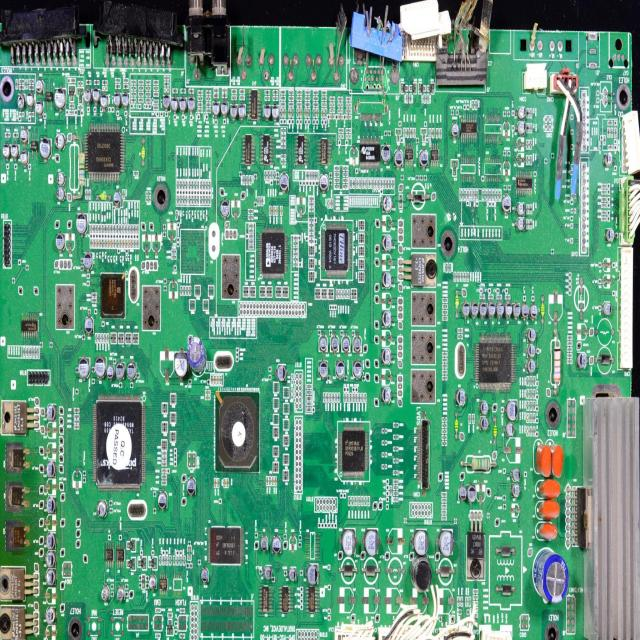Capacitor: (364, 525, 384, 555), (337, 530, 360, 556), (172, 351, 193, 378), (48, 230, 72, 253), (438, 530, 457, 556), (382, 187, 397, 218), (314, 360, 333, 384), (81, 246, 97, 272), (44, 601, 60, 626), (92, 498, 110, 520), (75, 211, 91, 235), (452, 386, 470, 407), (279, 171, 293, 198), (43, 398, 60, 420), (76, 354, 91, 378), (478, 411, 495, 431), (351, 359, 364, 385), (128, 352, 140, 380), (96, 354, 108, 382), (182, 477, 198, 497), (286, 565, 300, 587), (575, 350, 591, 369), (82, 316, 97, 336), (414, 528, 427, 551), (197, 561, 210, 584), (52, 180, 66, 201), (44, 527, 61, 544), (54, 86, 66, 110), (219, 196, 234, 215), (316, 336, 330, 356), (270, 536, 284, 556), (44, 550, 64, 564), (352, 333, 364, 356), (380, 271, 394, 290), (43, 496, 59, 512), (53, 166, 69, 182), (481, 397, 492, 420), (337, 355, 348, 377), (502, 194, 513, 216), (45, 459, 60, 475), (307, 563, 319, 583), (417, 149, 429, 169), (505, 403, 519, 420), (158, 490, 168, 513), (328, 335, 341, 352), (382, 235, 395, 252), (116, 360, 127, 380), (394, 148, 404, 170), (380, 385, 392, 403), (54, 132, 66, 150), (449, 120, 460, 139), (603, 151, 614, 170), (382, 308, 393, 327), (341, 334, 351, 354), (604, 298, 614, 318), (382, 350, 394, 366), (381, 144, 391, 163), (511, 468, 523, 483), (468, 484, 477, 504), (260, 533, 272, 548), (605, 228, 617, 243), (262, 564, 274, 578), (220, 100, 228, 120), (520, 302, 530, 318), (16, 93, 25, 110), (516, 201, 526, 216), (186, 96, 195, 112), (36, 98, 44, 116), (517, 120, 526, 136), (517, 216, 526, 232), (496, 302, 505, 318), (527, 326, 536, 342), (511, 484, 521, 498), (42, 575, 56, 585), (264, 103, 272, 120), (100, 94, 109, 109), (530, 304, 539, 319), (84, 88, 92, 104), (121, 92, 129, 108), (178, 96, 186, 112), (212, 101, 220, 117), (230, 103, 238, 119), (504, 302, 512, 318), (528, 344, 537, 358), (527, 360, 537, 372), (92, 88, 100, 103), (26, 92, 34, 107), (480, 301, 488, 316), (36, 78, 43, 95), (458, 487, 466, 501), (163, 94, 170, 110), (170, 97, 178, 111), (272, 105, 280, 119), (20, 130, 28, 144), (462, 303, 470, 317), (513, 304, 521, 318), (238, 104, 245, 119), (518, 105, 526, 118), (471, 303, 478, 317), (110, 362, 116, 378), (113, 94, 121, 106), (18, 111, 26, 117), (28, 111, 35, 117)
Connector: (614, 245, 640, 380), (619, 106, 640, 179)
IC: (334, 419, 373, 488), (84, 124, 131, 178), (476, 337, 515, 386), (321, 220, 352, 272), (259, 227, 288, 272), (14, 310, 43, 337), (359, 136, 380, 168), (514, 169, 533, 195), (460, 118, 480, 141), (248, 88, 260, 122), (430, 144, 442, 167), (405, 146, 414, 164), (46, 91, 54, 102)
Resistor Network: (15, 77, 19, 89), (18, 78, 26, 83), (78, 80, 84, 86), (29, 78, 34, 84), (25, 79, 28, 89)
Transistor: (420, 127, 428, 146), (67, 84, 75, 102), (77, 87, 85, 105), (394, 128, 402, 146)
